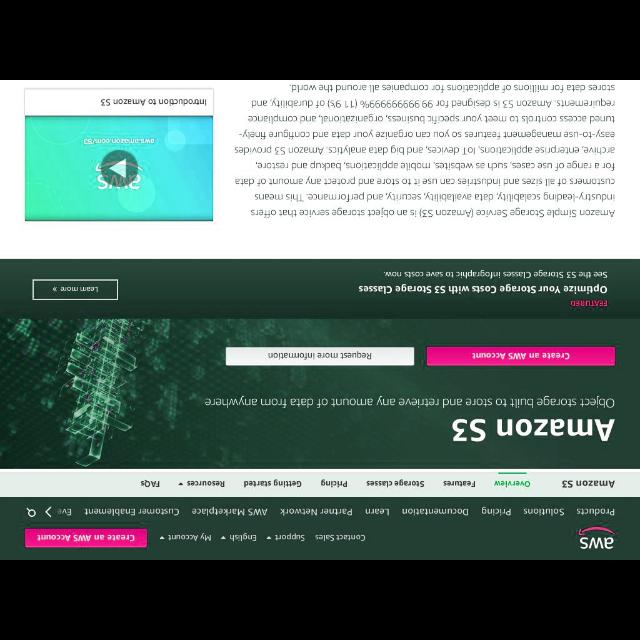backgroundimage: (5, 320, 152, 468)
icon: (140, 479, 160, 486), (26, 507, 36, 517), (44, 507, 52, 518), (221, 535, 227, 539), (266, 536, 272, 540), (178, 482, 184, 486), (160, 535, 164, 539)
image: (25, 116, 213, 220), (578, 526, 614, 550)
multitab: (1, 469, 639, 496)
panel: (3, 319, 639, 469), (1, 260, 640, 318), (25, 90, 213, 220)
spinner: (159, 533, 211, 541), (266, 533, 304, 541), (221, 533, 257, 541)
text: (234, 82, 616, 218), (205, 396, 615, 408), (452, 418, 616, 442), (358, 284, 608, 294), (384, 270, 608, 278), (268, 350, 372, 360), (101, 99, 207, 107), (472, 352, 570, 360), (38, 534, 134, 542), (192, 506, 268, 516), (84, 508, 178, 516), (280, 508, 352, 516), (402, 508, 468, 516), (366, 479, 424, 487), (243, 480, 300, 488), (562, 480, 614, 488), (315, 534, 365, 542), (52, 286, 98, 294), (168, 533, 210, 541), (524, 508, 564, 516), (576, 508, 614, 516), (187, 480, 225, 488), (482, 506, 511, 516), (494, 480, 530, 488), (320, 478, 348, 488), (443, 480, 475, 488), (275, 533, 305, 541), (570, 300, 608, 306), (364, 508, 390, 516), (230, 533, 256, 541), (56, 508, 72, 516)
textbutton: (226, 346, 414, 366), (426, 346, 614, 366), (24, 528, 148, 548), (32, 278, 118, 300)
toolbar: (1, 497, 640, 559)
